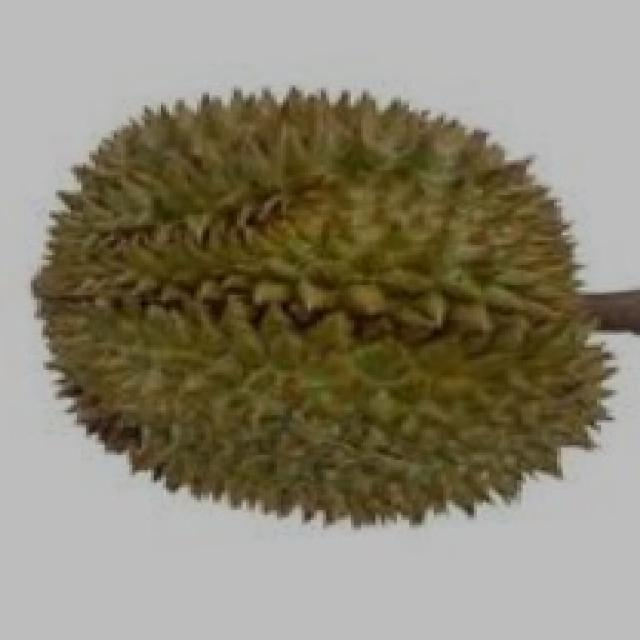fruit: (271, 180, 640, 590), (3, 195, 369, 583)
